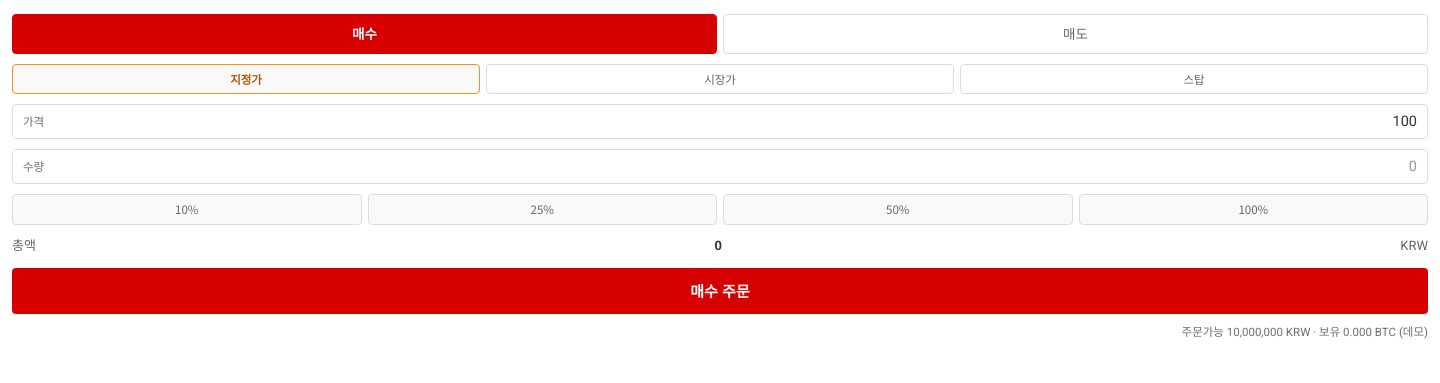
Test: OrderForm - 주문 배선(E4) › 수량이 없으면 거절 메시지를 보이고 주문하지 않는다
Click the button "매수 주문": (720, 291) [12,268,1428,314]
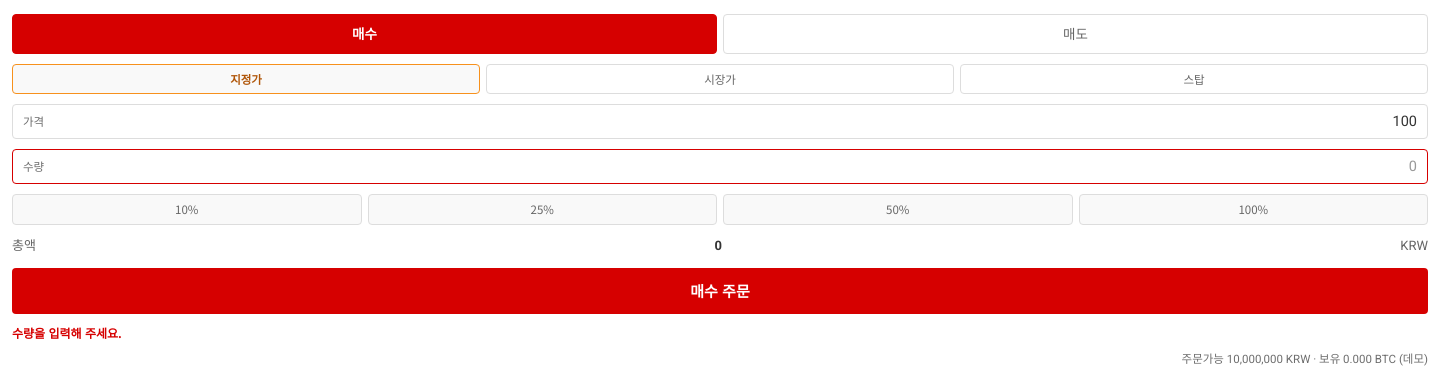
Expected: the message shows "수량", [12,324,122,340]
